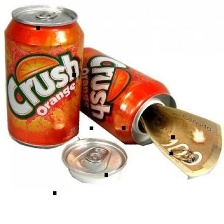can: (0, 2, 87, 152), (71, 44, 179, 146)
